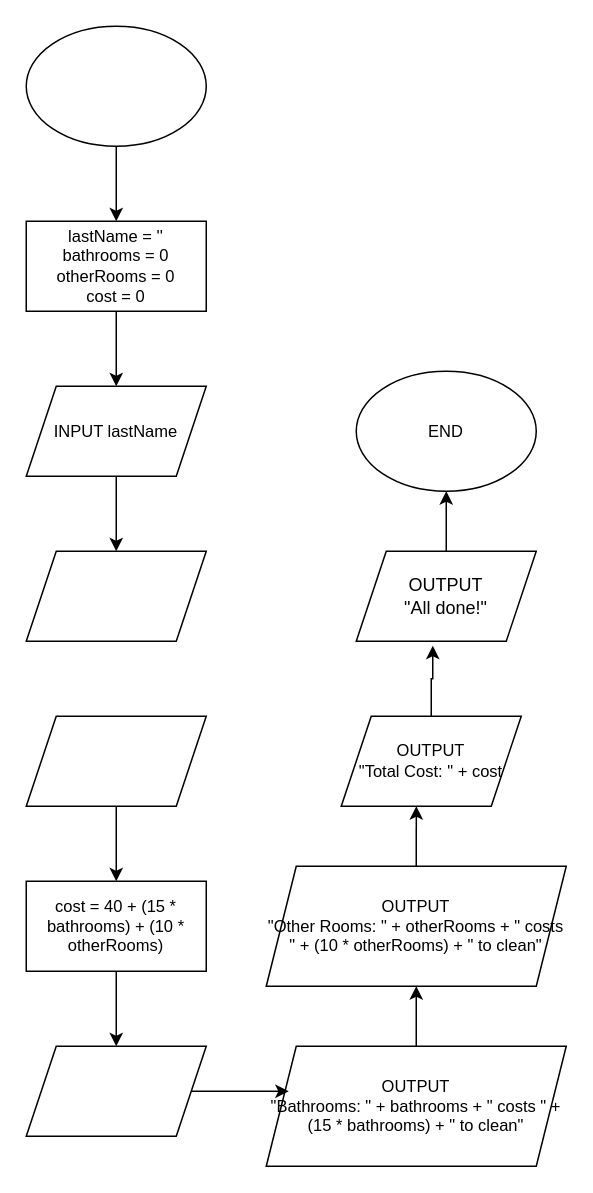
Image size: 593x1193. Some labels were removed from this diagram. Each missing label, with the centre of its shape:
INPUT bathrooms: point (115, 595)
INPUT otherRooms: point (115, 760)
OUTPUT lastName: point (115, 1090)
START: point (115, 85)
